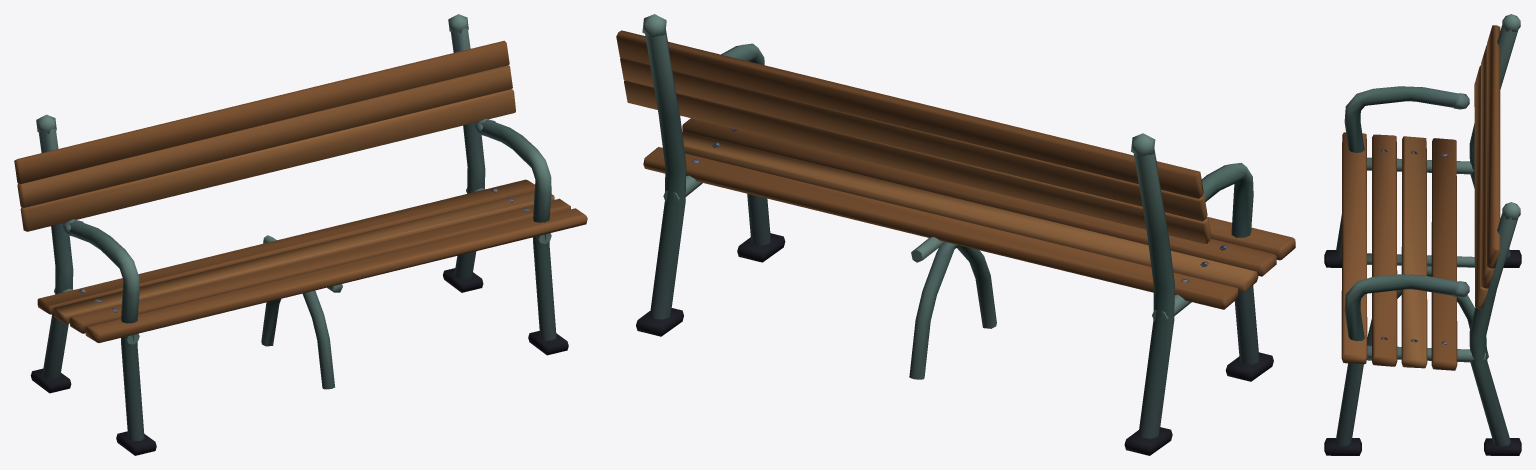
File: banc_parc.glb
3 renders of one model, left to right at view 1: azimuth 30°, elevation 25°; view 2: azimuth 150°, elevation 25°; view 3: azimuth 270°, elevation 25°, orthographic. The views are drawn at different scales.
Parts seen in each view (by area): view 1: banc_parc; view 2: banc_parc; view 3: banc_parc.
Part boxes in pixels (x1,y1,x2,y2): banc_parc: (14, 14, 587, 455); banc_parc: (616, 14, 1295, 455); banc_parc: (1324, 14, 1521, 455).
Size of the model in its own units: 1.86 by 0.9721 by 0.6928.
